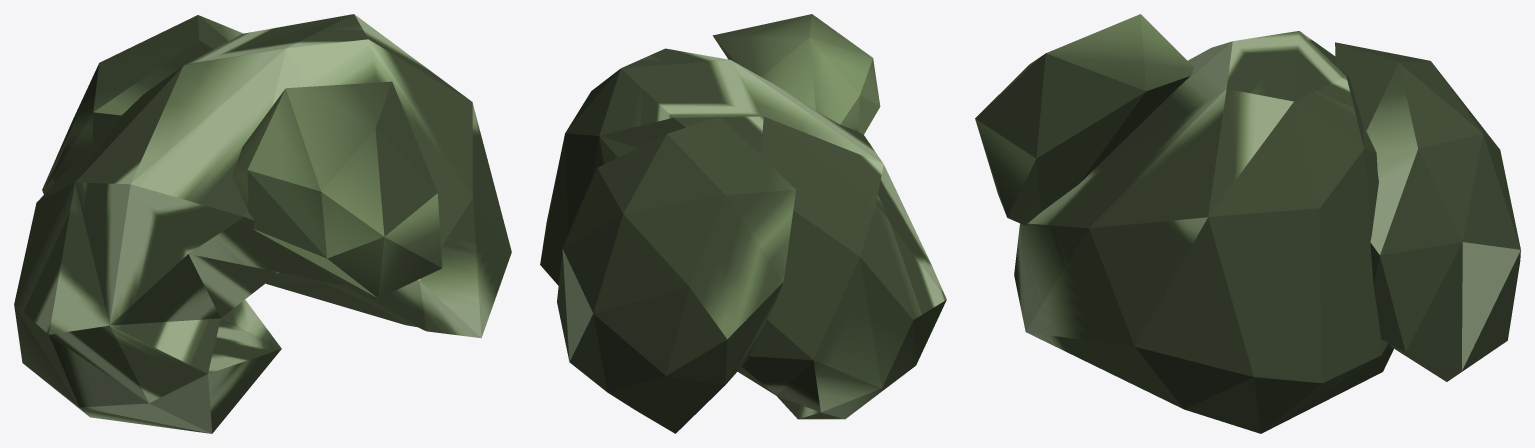
File: EA_Bush2d.glb
The picture shows the model from 3 angles, left to right: view 1: azimuth 30°, elevation 25°; view 2: azimuth 150°, elevation 25°; view 3: azimuth 270°, elevation 25°; orthographic projection. The views are drawn at different scales.
Visible parts, largest first — view 1: EA_Bush2d; view 2: EA_Bush2d; view 3: EA_Bush2d.
Part boxes in pixels (<box>): EA_Bush2d: <box>14,14,511,433</box>; EA_Bush2d: <box>540,14,946,433</box>; EA_Bush2d: <box>975,14,1520,433</box>.
Bounding box in the file's own units: 4.89 × 3.82 × 5.06.
1 material, 1 textured.
